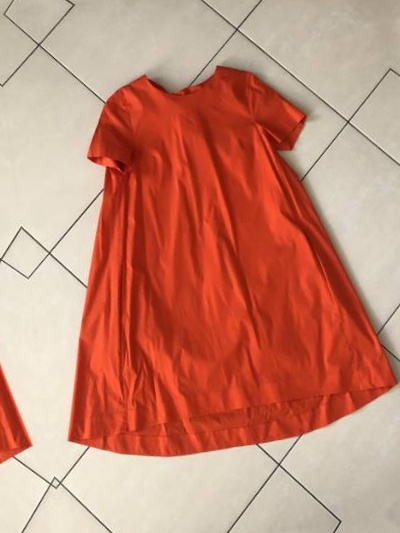Dress: (13, 0, 400, 490), (0, 23, 36, 533), (0, 0, 344, 7)
